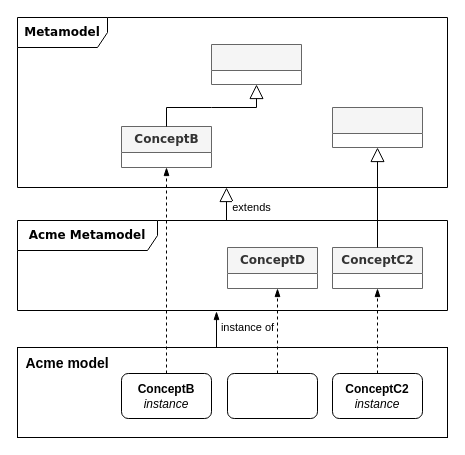
Some shapes in this 465 by 455 pixel diagram are drawn without their labels. Here are the shapes that lost their labels. From the top down, the centre of each, then its label:
the point at 256,64: ConceptA
the point at 377,127: ConceptC
the point at 272,395: ConceptD instance
